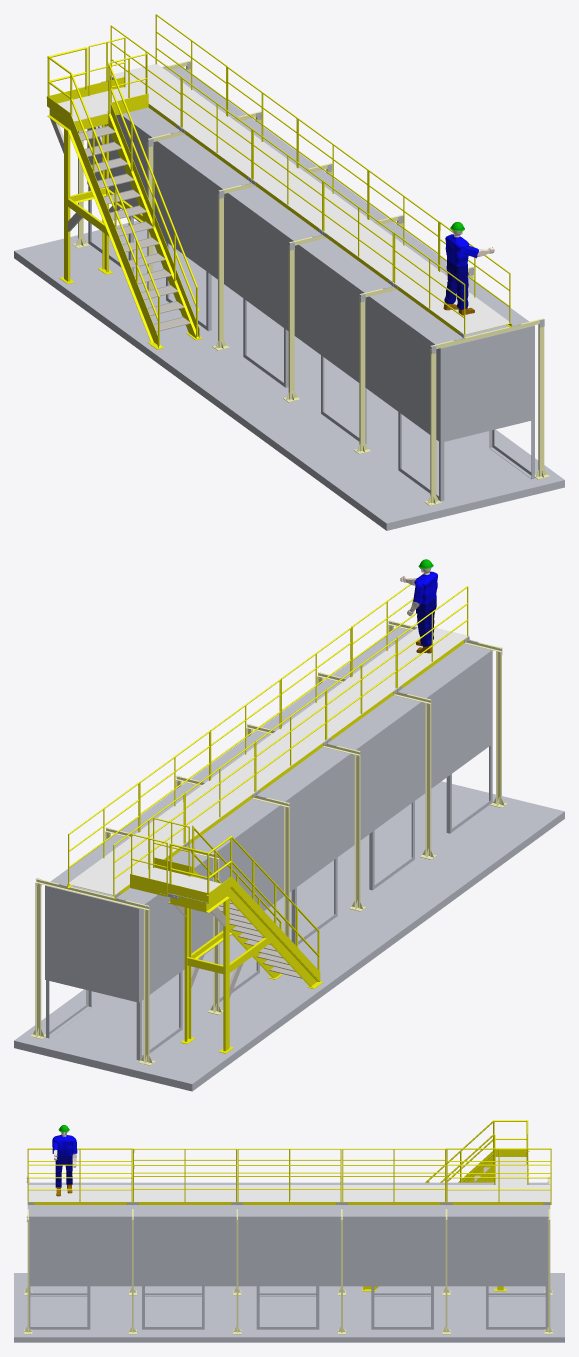
File: 工人观测平台.glb
3 views of the same model, one above another, from view 1: azimuth 30°, elevation 25°; view 2: azimuth 150°, elevation 25°; view 3: azimuth 270°, elevation 25° (orthographic). The views are drawn at different scales.
Parts seen in each view (by area): view 1: stitch_result_stitch all (13), stitch_result_stitch all, stitch_result_stitch all (383), stitch_result_stitch all (150), stitch_result_stitch all (172), stitch_result_stitch all (128), stitch_result_stitch all (194), stitch_result_stitch all (109), stitch_result_stitch all (381), stitch_result_stitch all (451), stitch_result_stitch all (89), stitch_result_stitch all (92) (+8 smaller); view 2: stitch_result_stitch all (13), stitch_result_stitch all, stitch_result_stitch all (383), stitch_result_stitch all (150), stitch_result_stitch all (128), stitch_result_stitch all (172), stitch_result_stitch all (194), stitch_result_stitch all (109), stitch_result_stitch all (77), stitch_result_stitch all (451), stitch_result_stitch all (384), stitch_result_stitch all (89) (+4 smaller); view 3: stitch_result_stitch all (13), stitch_result_stitch all, stitch_result_stitch all (194), stitch_result_stitch all (150), stitch_result_stitch all (128), stitch_result_stitch all (172), stitch_result_stitch all (109), stitch_result_stitch all (383), stitch_result_stitch all (395), stitch_result_stitch all (451), stitch_result_stitch all (77), stitch_result_stitch all (366) (+12 smaller).
Boxes of the visible parts, x1,y1,x2,y2 form: stitch_result_stitch all (13): [87, 67, 534, 442]; stitch_result_stitch all: [14, 220, 564, 530]; stitch_result_stitch all (383): [47, 86, 163, 349]; stitch_result_stitch all (150): [252, 168, 367, 230]; stitch_result_stitch all (172): [181, 116, 296, 178]; stitch_result_stitch all (128): [322, 219, 438, 282]; stitch_result_stitch all (194): [110, 64, 225, 126]; stitch_result_stitch all (109): [393, 271, 510, 334]; stitch_result_stitch all (381): [107, 113, 198, 338]; stitch_result_stitch all (451): [88, 77, 148, 115]; stitch_result_stitch all (89): [288, 246, 294, 399]; stitch_result_stitch all (92): [359, 298, 365, 451]; stitch_result_stitch all (13): [45, 627, 492, 1002]; stitch_result_stitch all: [14, 781, 564, 1091]; stitch_result_stitch all (383): [168, 876, 323, 988]; stitch_result_stitch all (150): [210, 728, 326, 791]; stitch_result_stitch all (128): [281, 677, 397, 739]; stitch_result_stitch all (172): [140, 780, 256, 843]; stitch_result_stitch all (194): [67, 832, 185, 895]; stitch_result_stitch all (109): [352, 627, 468, 687]; stitch_result_stitch all (77): [35, 878, 149, 1062]; stitch_result_stitch all (451): [130, 857, 190, 896]; stitch_result_stitch all (384): [219, 898, 233, 1053]; stitch_result_stitch all (89): [354, 755, 360, 908]; stitch_result_stitch all (13): [29, 1182, 548, 1286]; stitch_result_stitch all: [14, 1273, 564, 1342]; stitch_result_stitch all (194): [446, 1185, 551, 1202]; stitch_result_stitch all (150): [237, 1185, 341, 1202]; stitch_result_stitch all (128): [133, 1185, 237, 1202]; stitch_result_stitch all (172): [342, 1185, 445, 1202]; stitch_result_stitch all (109): [28, 1185, 132, 1202]; stitch_result_stitch all (383): [458, 1149, 526, 1182]; stitch_result_stitch all (395): [495, 1157, 528, 1171]; stitch_result_stitch all (451): [494, 1166, 528, 1184]; stitch_result_stitch all (77): [548, 1176, 550, 1332]; stitch_result_stitch all (366): [52, 1134, 74, 1155].
Size of the model in its own units: 3.79 by 5.24 by 13.7.
